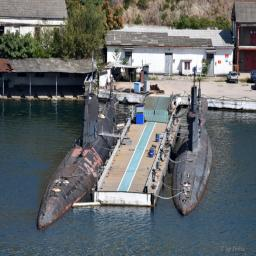submarine: (37, 79, 125, 230), (173, 76, 214, 217)
